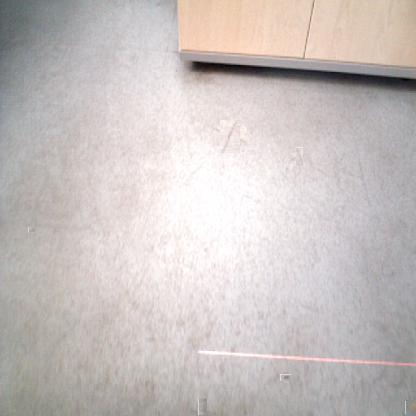dirty: (405, 400, 416, 414)
mark: (216, 123, 244, 149), (186, 163, 203, 179), (193, 402, 212, 416), (293, 150, 306, 164), (316, 167, 328, 177), (281, 373, 290, 382), (29, 227, 37, 234)
